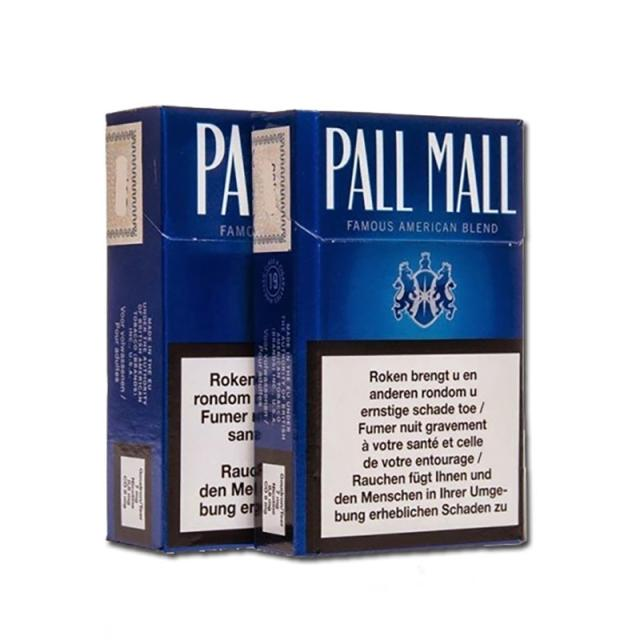pallmall: (245, 110, 533, 560), (98, 109, 261, 556)
